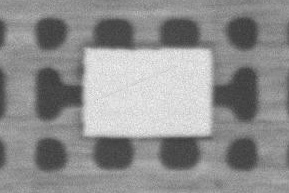DIE_CRACK: (139, 44, 264, 67)
